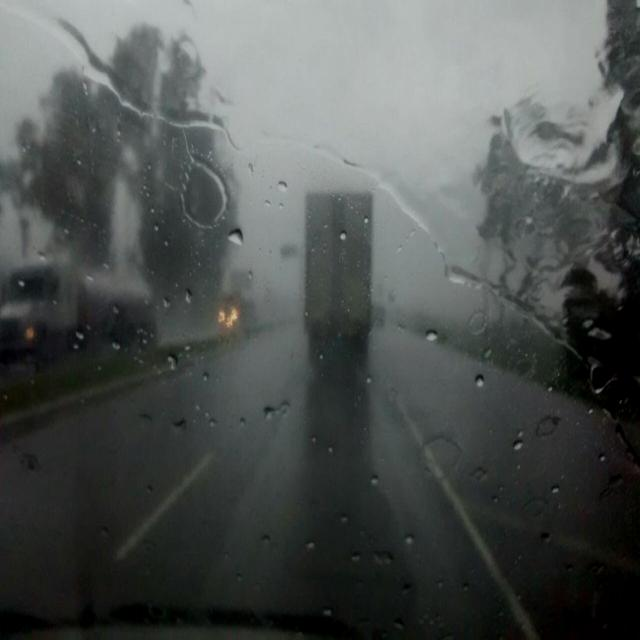Truck: (0, 252, 157, 375), (300, 183, 376, 375), (232, 261, 258, 328)
